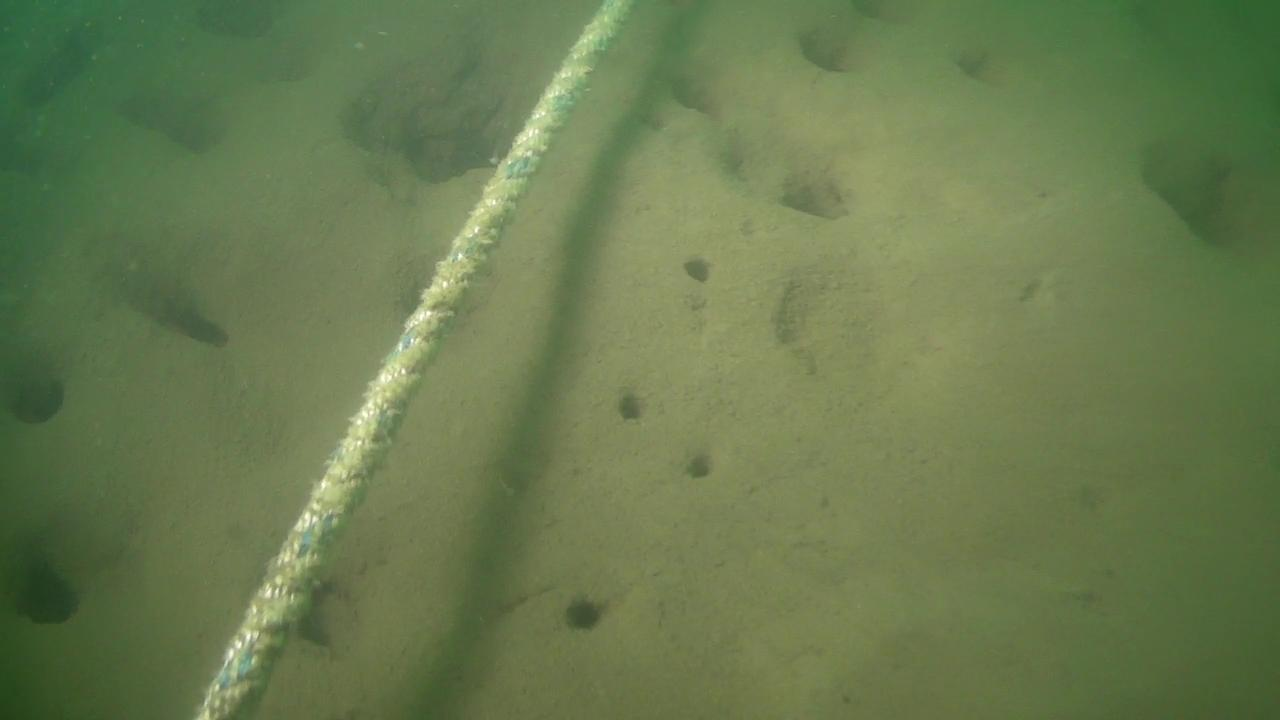rope: (196, 0, 637, 720)
